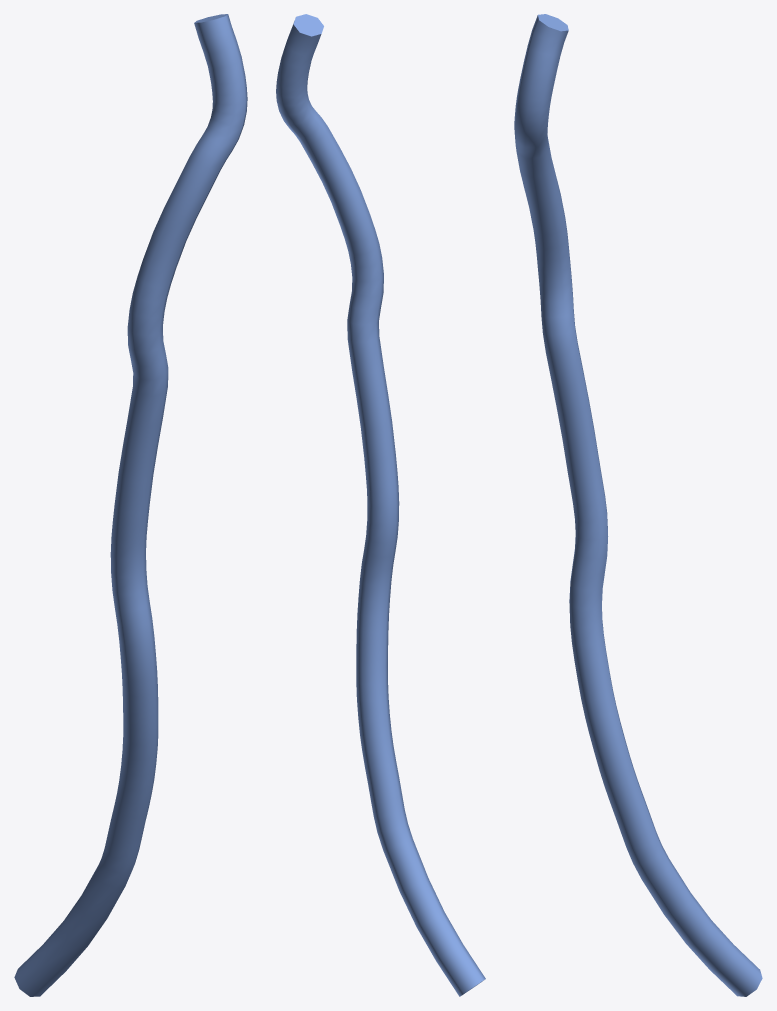
File: veine-femorale.glb
3 views of the same model, side by side, from view 1: azimuth 30°, elevation 25°; view 2: azimuth 210°, elevation 25°; view 3: azimuth 270°, elevation 25° (orthographic). The views are drawn at different scales.
Visible parts, largest first — view 1: veine-femorale; view 2: veine-femorale; view 3: veine-femorale.
Part boxes in pixels (x1,y1,x2,y2): veine-femorale: (14, 14, 247, 996); veine-femorale: (276, 14, 485, 996); veine-femorale: (514, 14, 762, 996).
Size of the model in its own units: 0.039 by 0.3201 by 0.0709.
